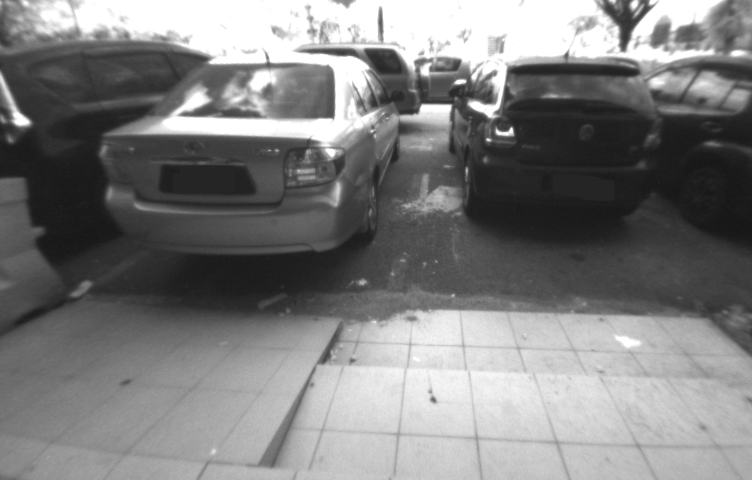down_steps: (282, 301, 738, 480)
mixed_gradient: (207, 304, 396, 480)
